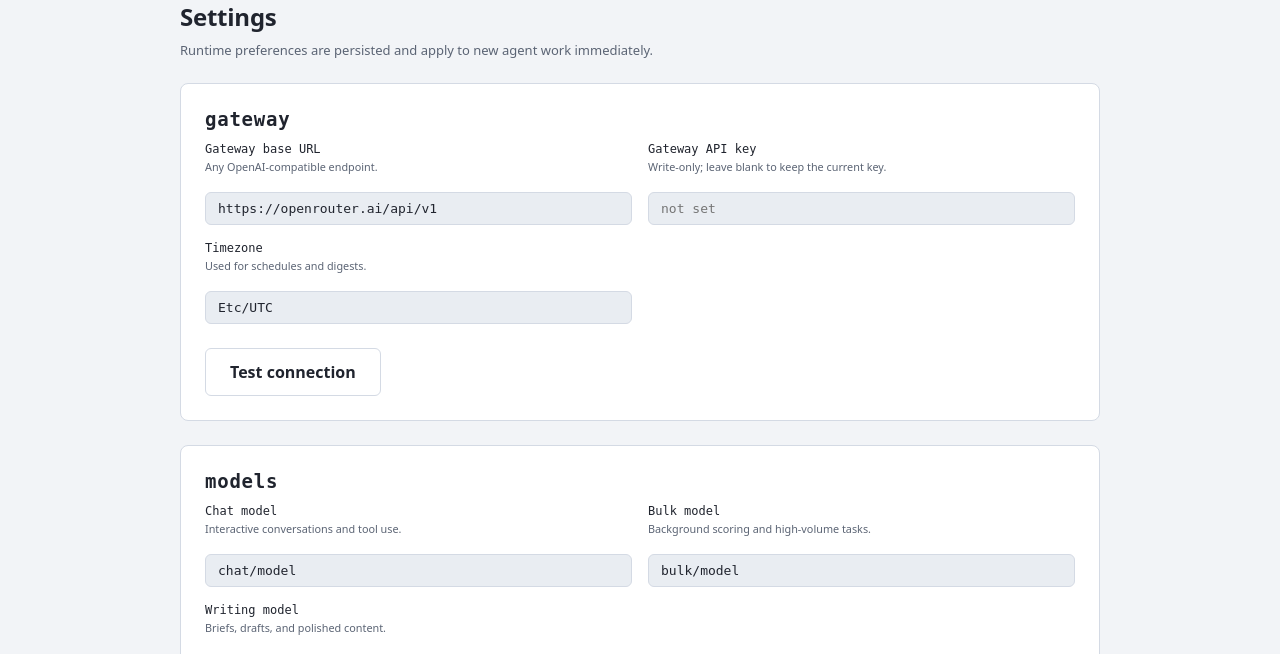
edits and saves user-facing settings and shows account controls
This screenshot has width=1280, height=654.
Replace the text in the field labelled "Chat model" with "new/chat-model" at coordinates (418, 571), box [205,554,632,588]
(page scrolled)
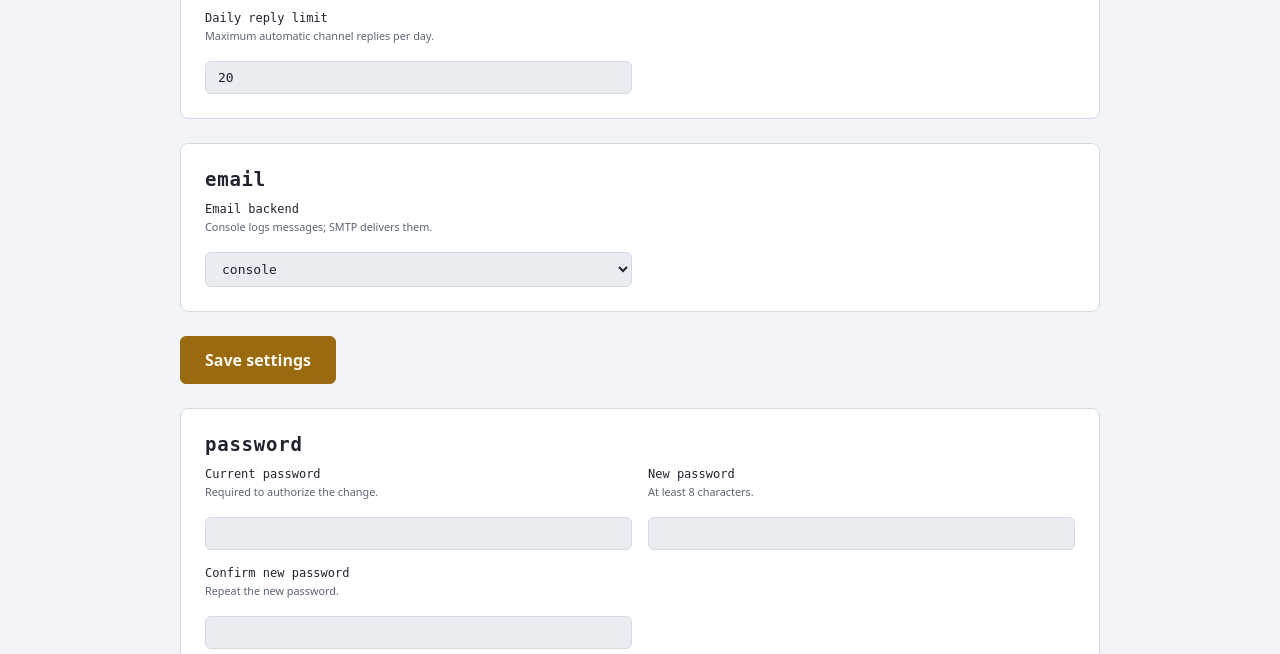
Click the button "Save settings".
click(258, 360)  # box [180,336,336,384]
(page scrolled)
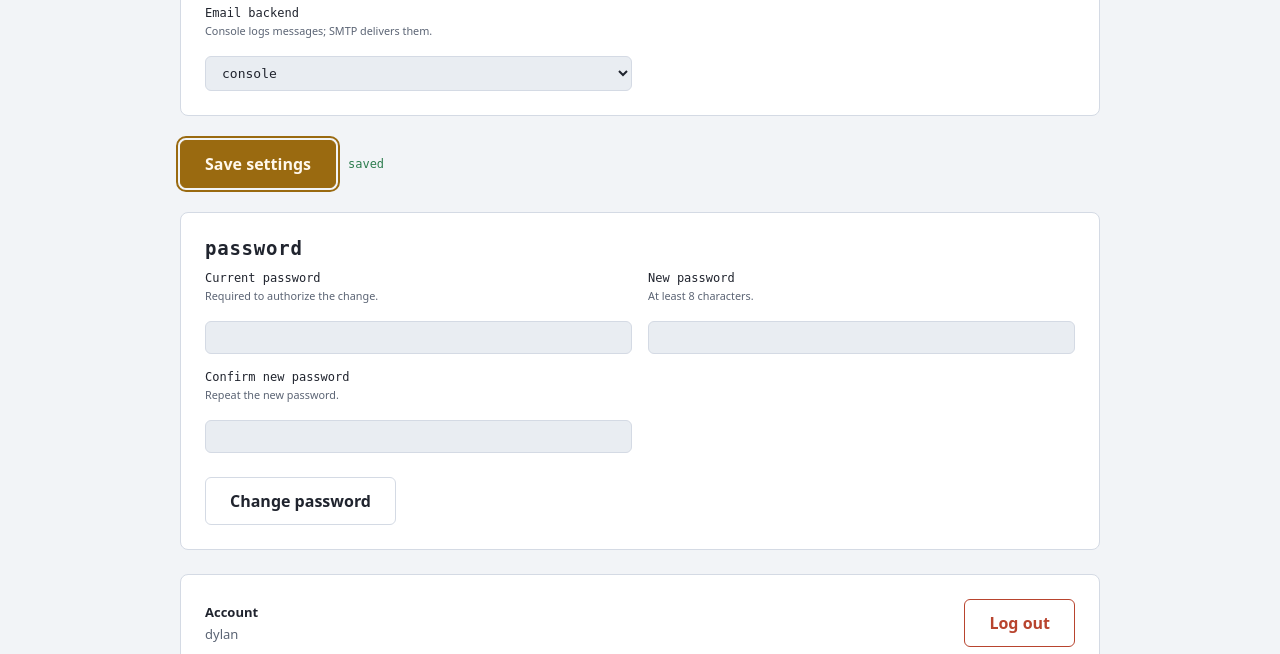
Expected: the text "dylan" is shown, [205,625,238,643]
Now the text "saved" is shown, box [348,157,384,171]
